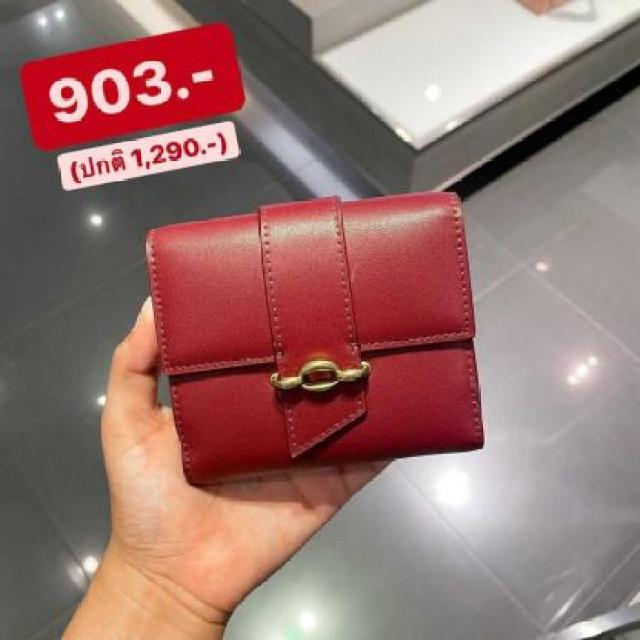Bag: (126, 172, 540, 534)
